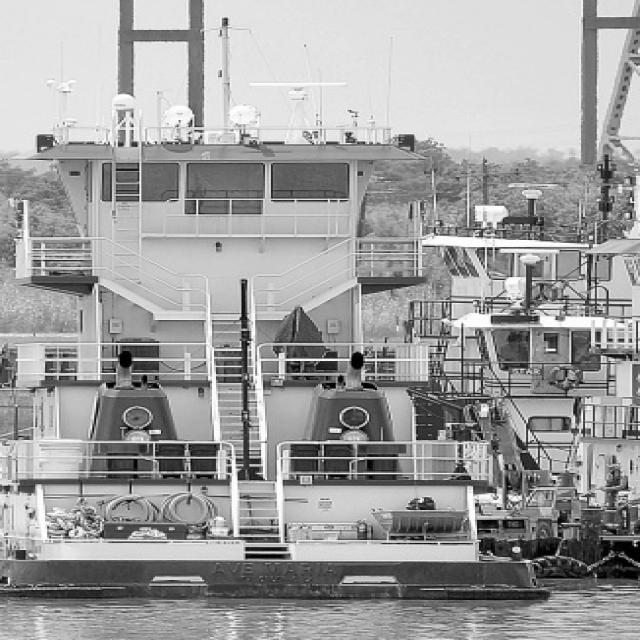tugboat: (1, 79, 557, 614)
